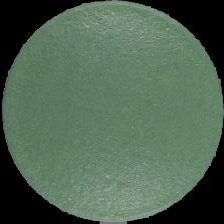54868-0065: (0, 0, 224, 224)
